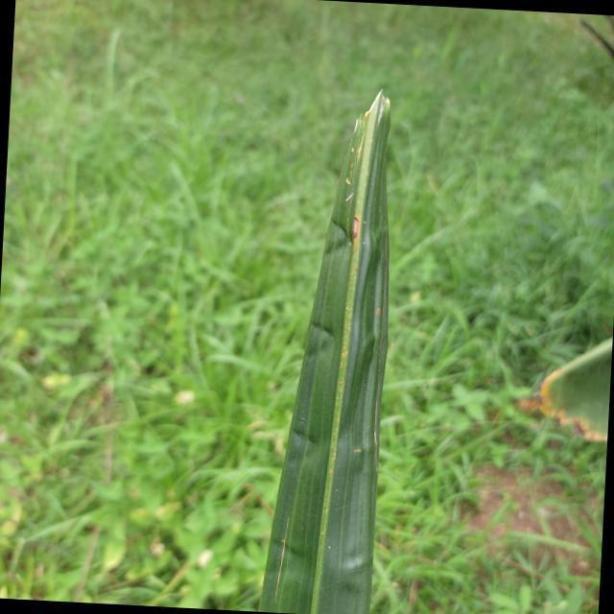Boron: (230, 83, 397, 614)
